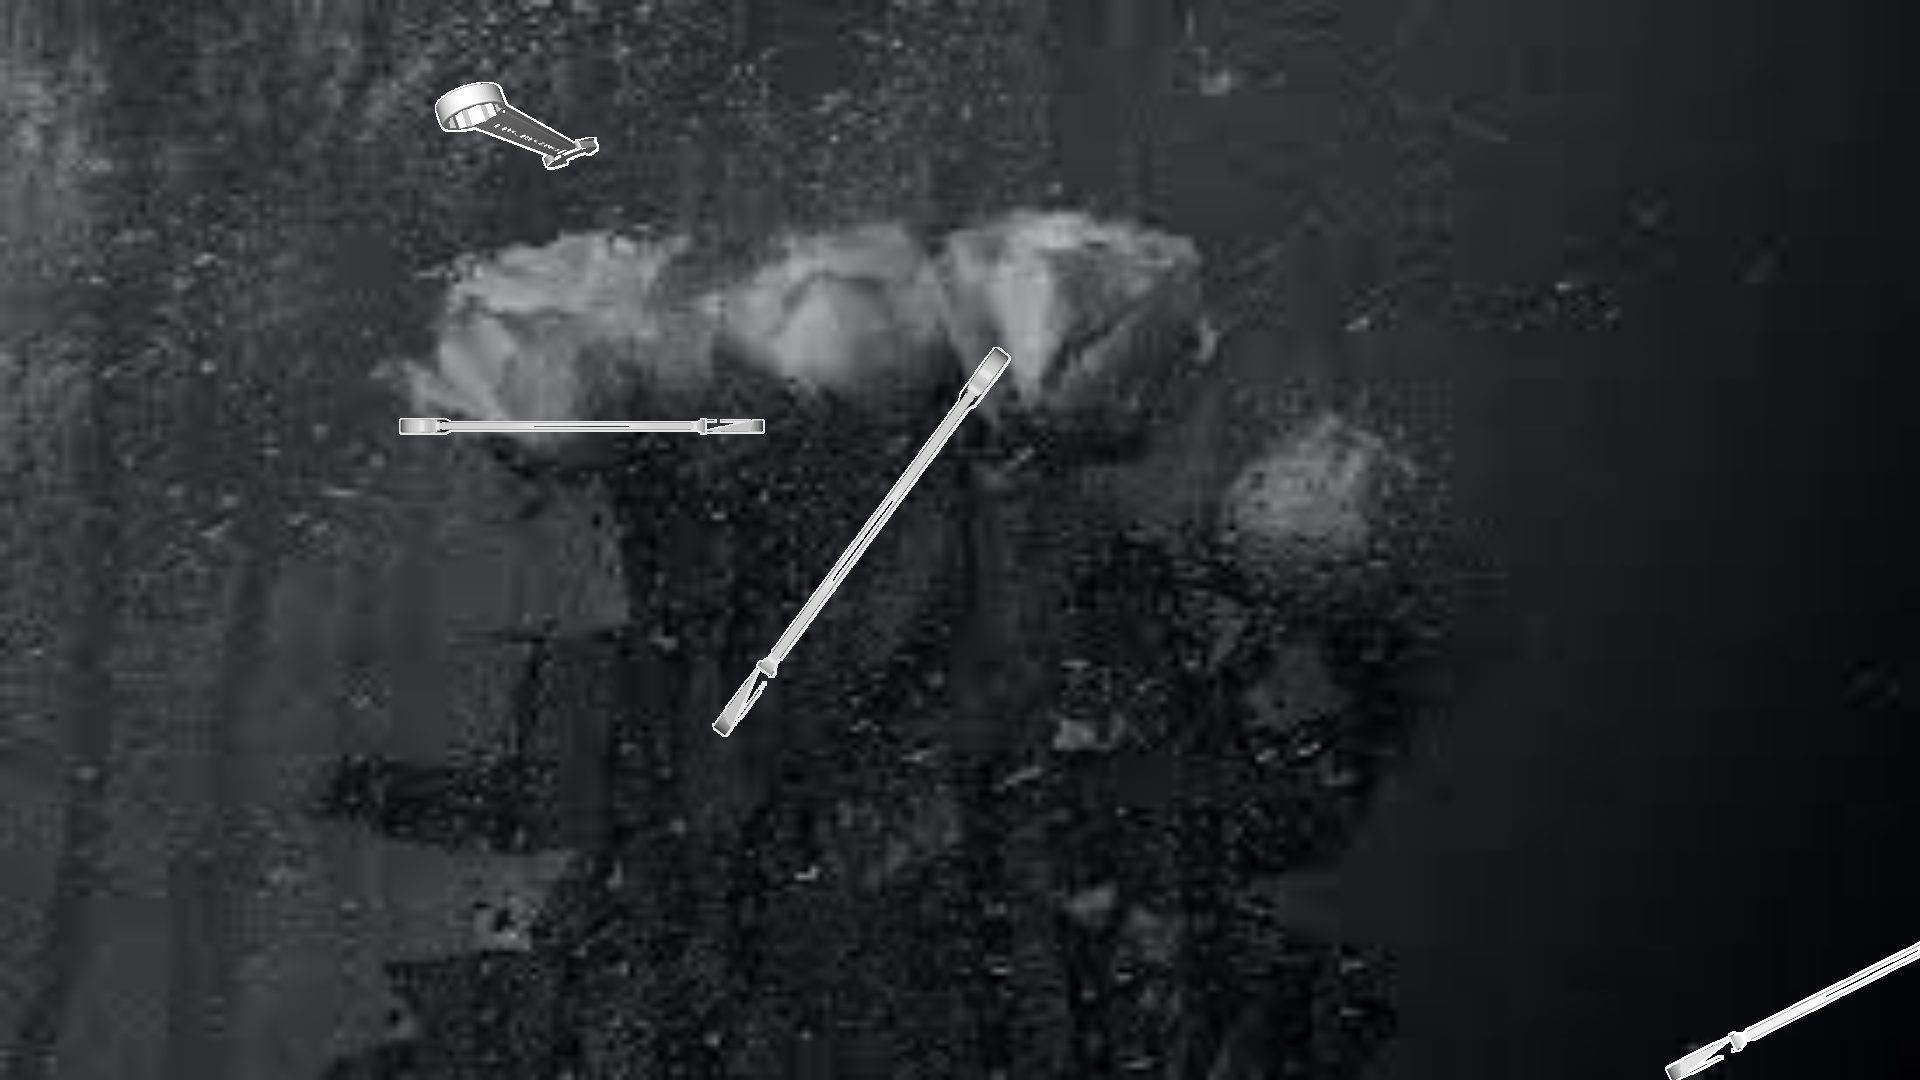Mixed Key: (712, 347, 1010, 736), (1665, 942, 1919, 1079), (435, 82, 597, 169), (400, 418, 764, 434)
